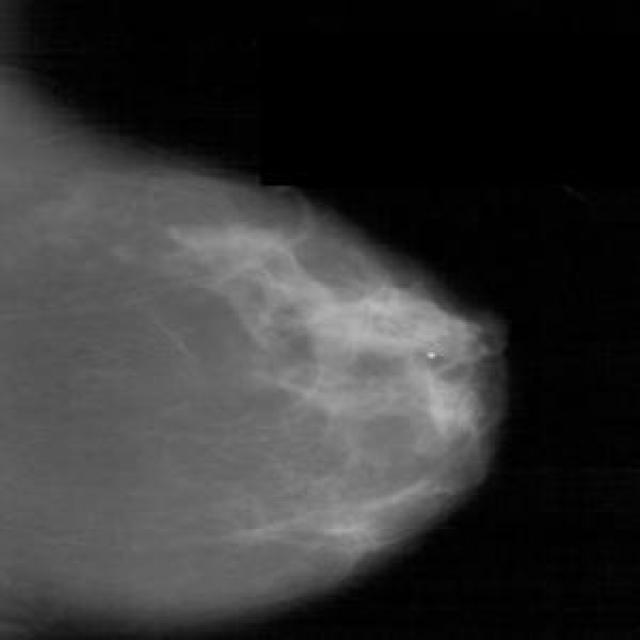tumor: (300, 278, 487, 441)
